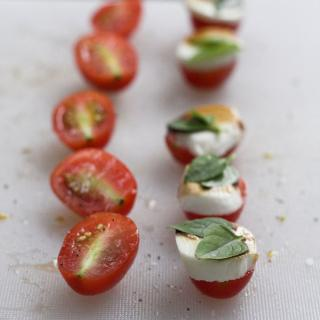tomato: (56, 212, 140, 298), (48, 146, 138, 218), (72, 28, 140, 91), (48, 89, 117, 146), (90, 0, 142, 42)
